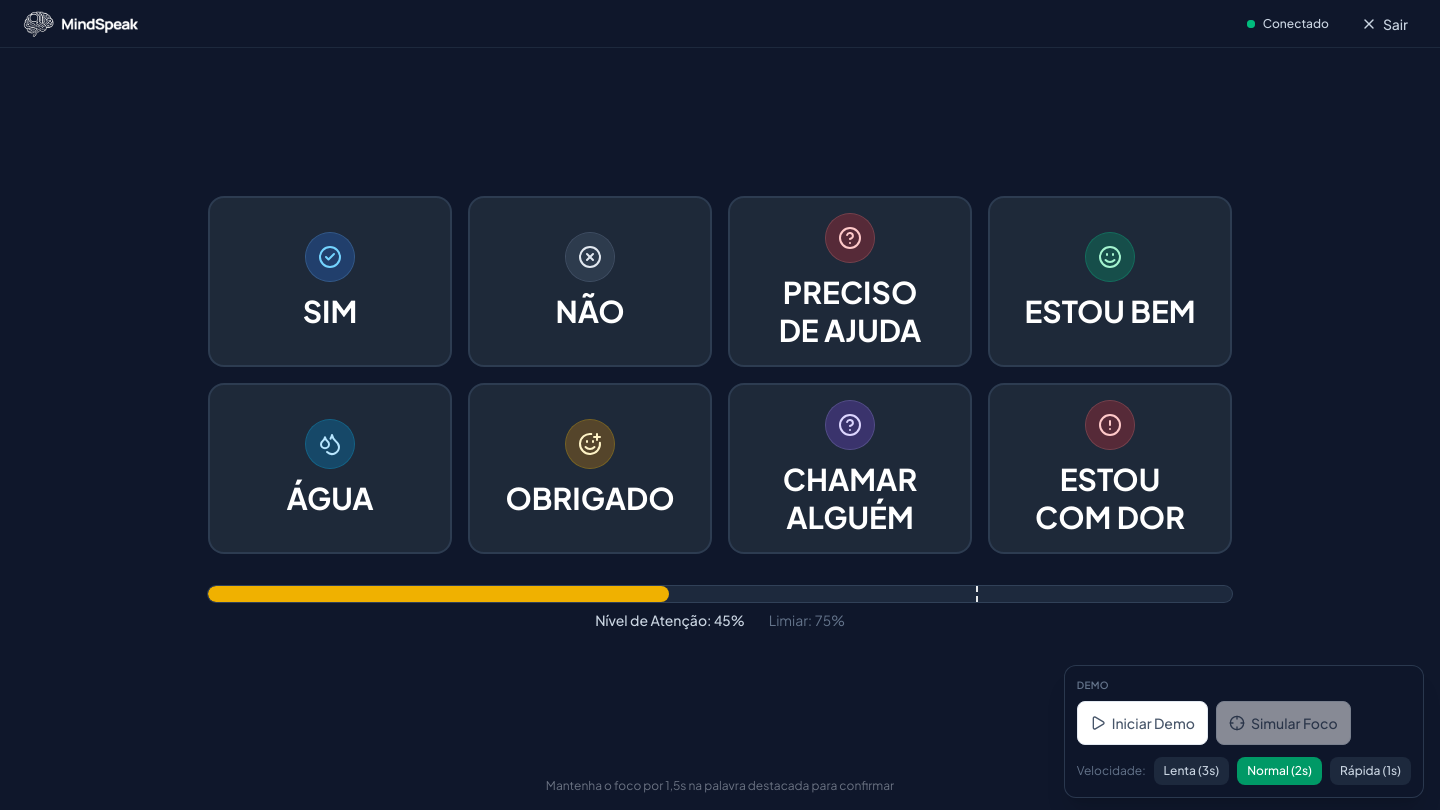
Scenario: PatientCommunicatePage — atalho de confirmação › confirma a palavra destacada quando a varredura está rodando
Click the button "Iniciar Demo" at x=1142, y=723, box [1077,701,1208,745]
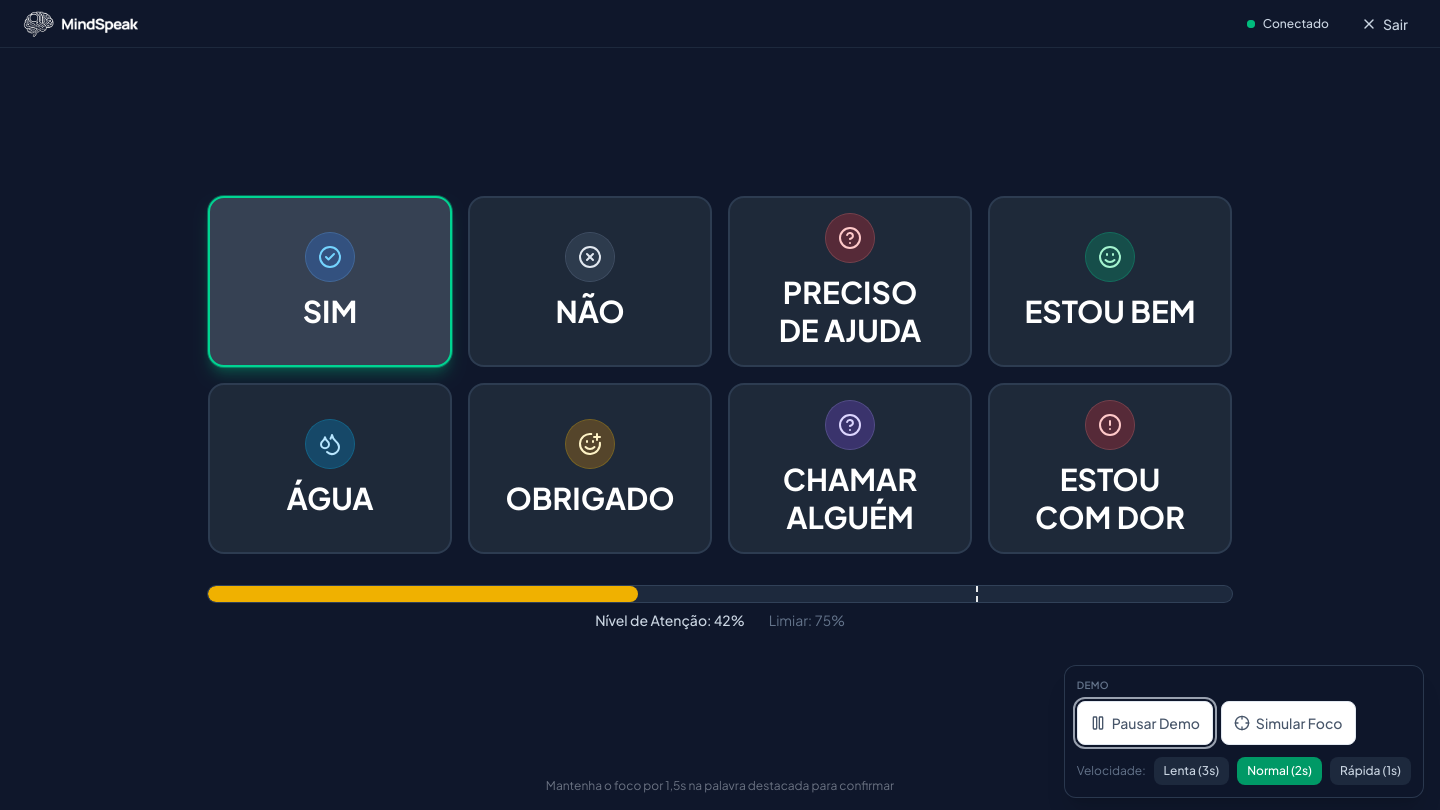
Type keys "a"
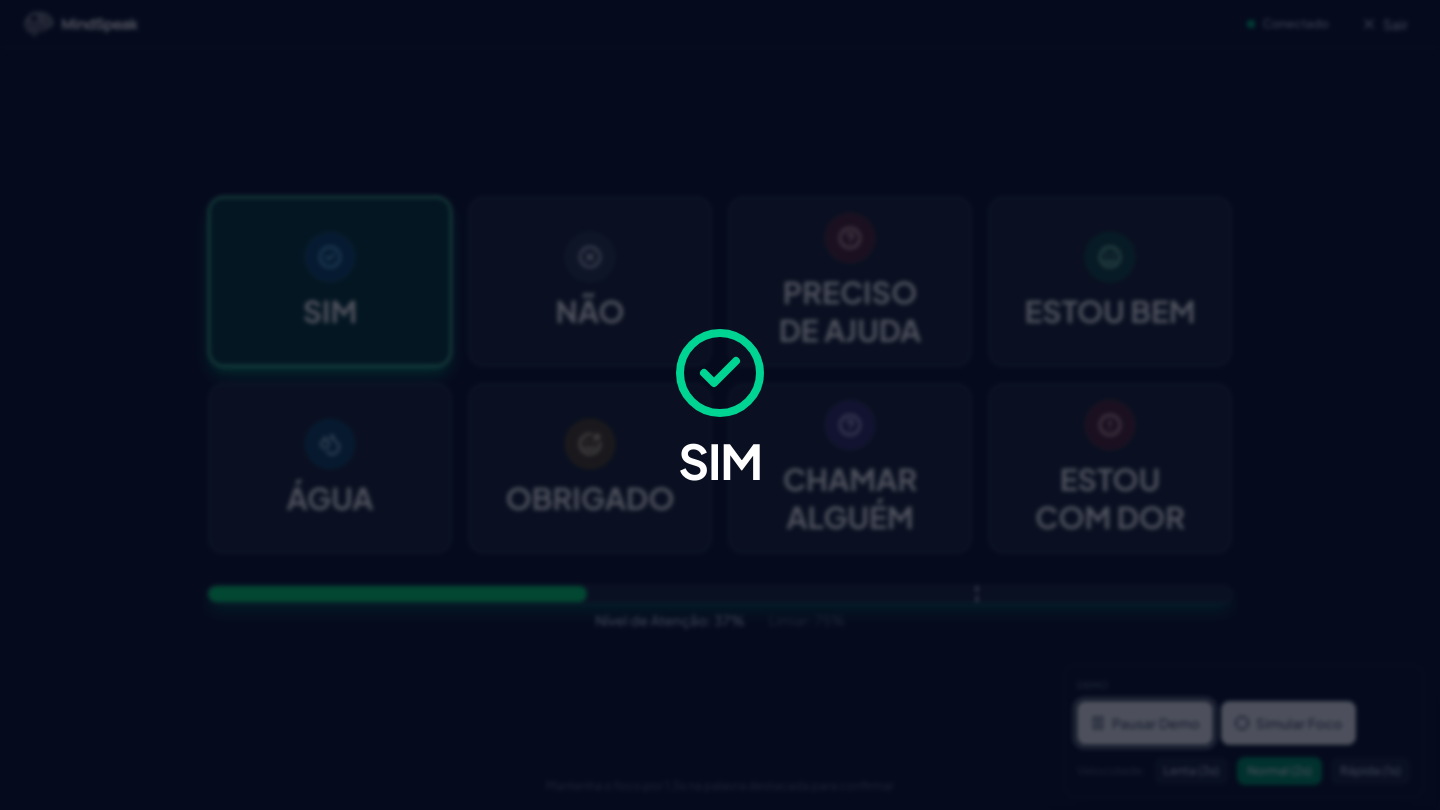
Expected: the dialog named "confirma" reads "SIM", [678,430,762,491]
